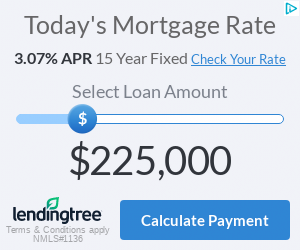fake_button: (116, 196, 294, 250)
